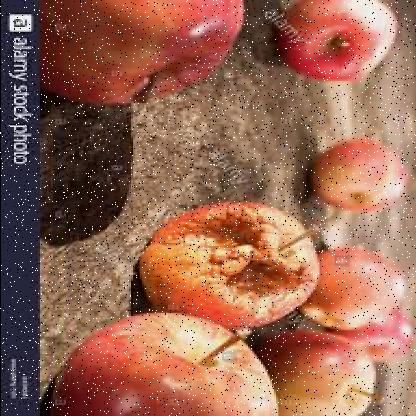apple: (39, 1, 245, 97), (56, 327, 272, 413), (273, 330, 375, 414), (282, 1, 394, 72), (306, 137, 404, 211), (305, 256, 401, 328)
damaged_apple: (145, 204, 314, 322)
